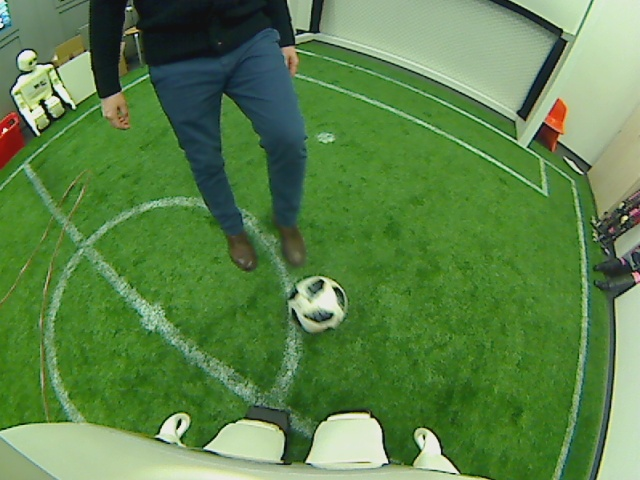ball: (288, 275, 347, 334)
